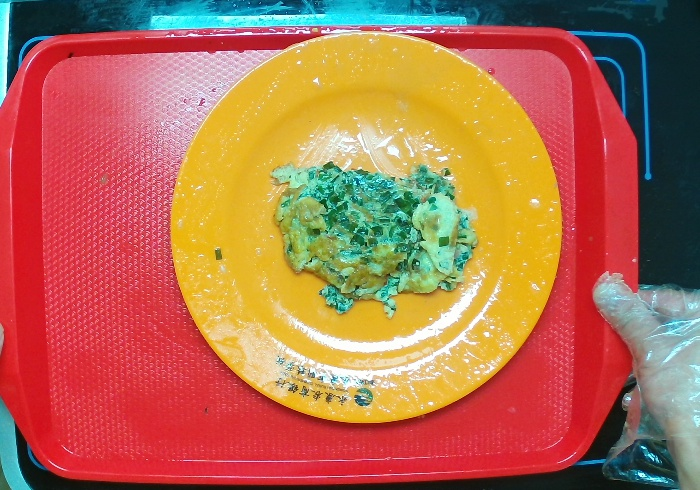YKMZ-Ju_Se_Mian_Pan: (168, 29, 564, 425)
